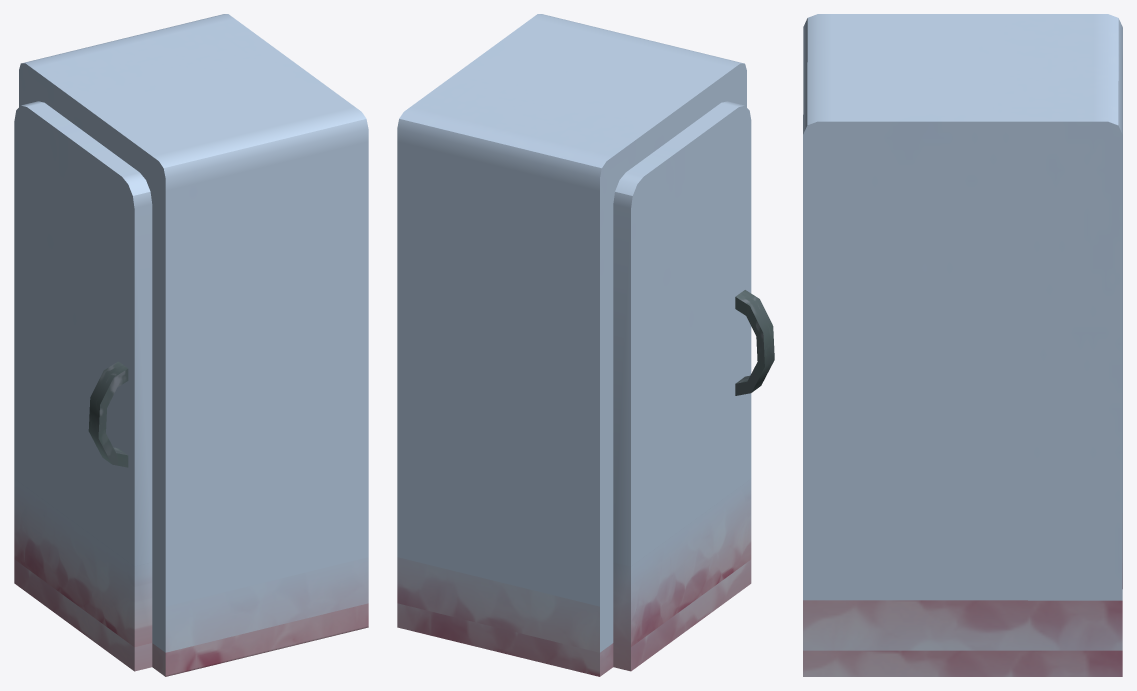
File: Fridge.fbx
The picture shows the model from 3 angles, left to right: view 1: azimuth 30°, elevation 25°; view 2: azimuth 150°, elevation 25°; view 3: azimuth 270°, elevation 25°; orthographic projection. The views are drawn at different scales.
Parts seen in each view (by area): view 1: Fridge; view 2: Fridge; view 3: Fridge.
Boxes of the visible parts, x1=… form: Fridge: x1=14, y1=14, x2=368, y2=676; Fridge: x1=397, y1=14, x2=774, y2=676; Fridge: x1=803, y1=14, x2=1122, y2=676.
Size of the model in its own units: 98.44 by 192 by 100.
